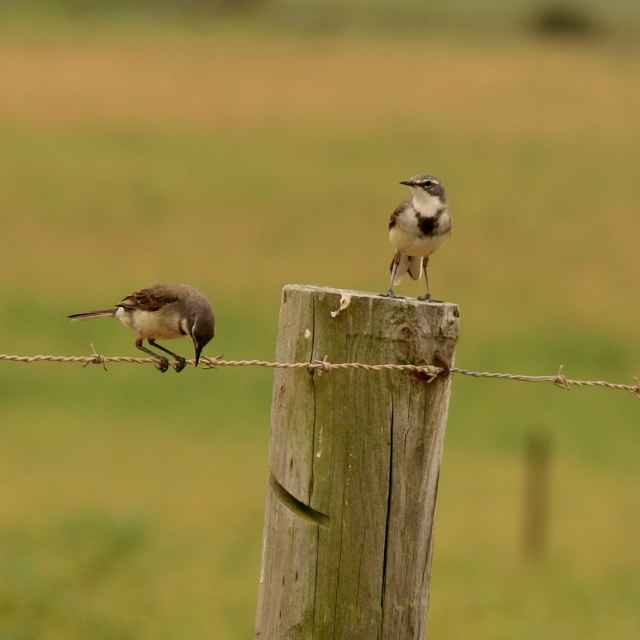Sparrow: (62, 282, 222, 369), (379, 170, 460, 307)
